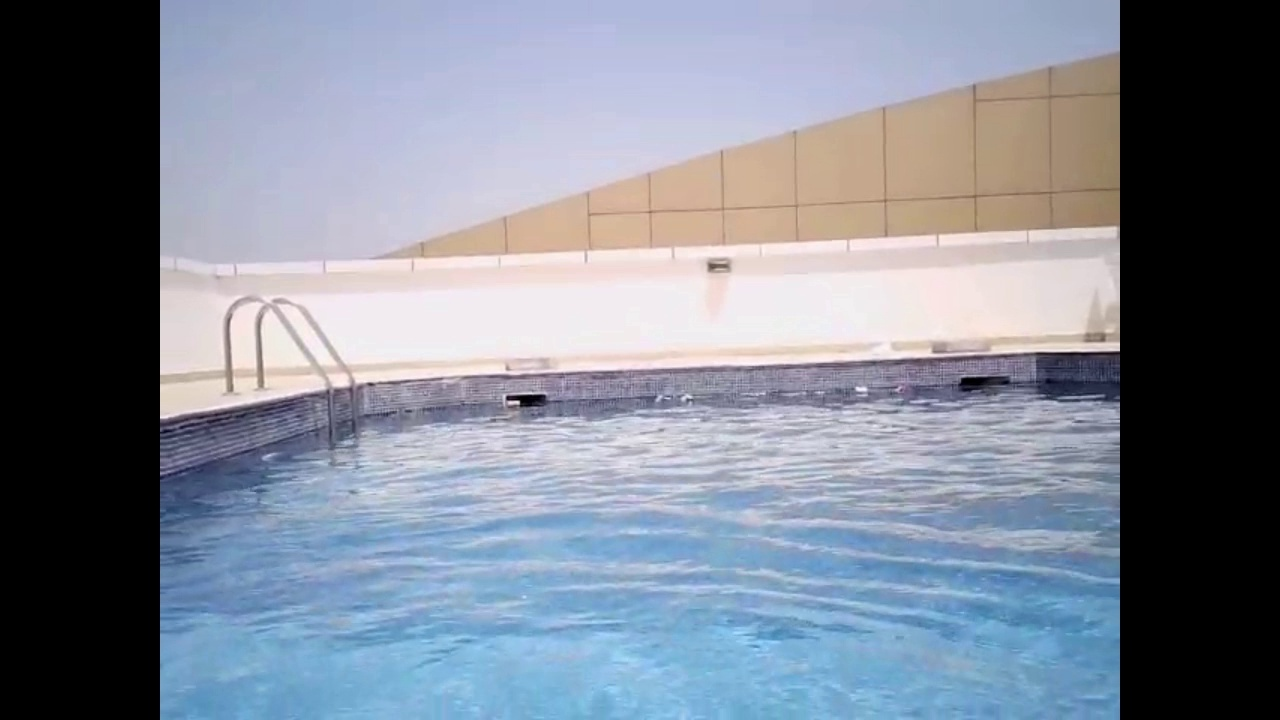debris: (848, 380, 871, 403), (649, 390, 676, 407), (676, 391, 698, 408), (886, 383, 907, 399), (502, 396, 522, 412)
